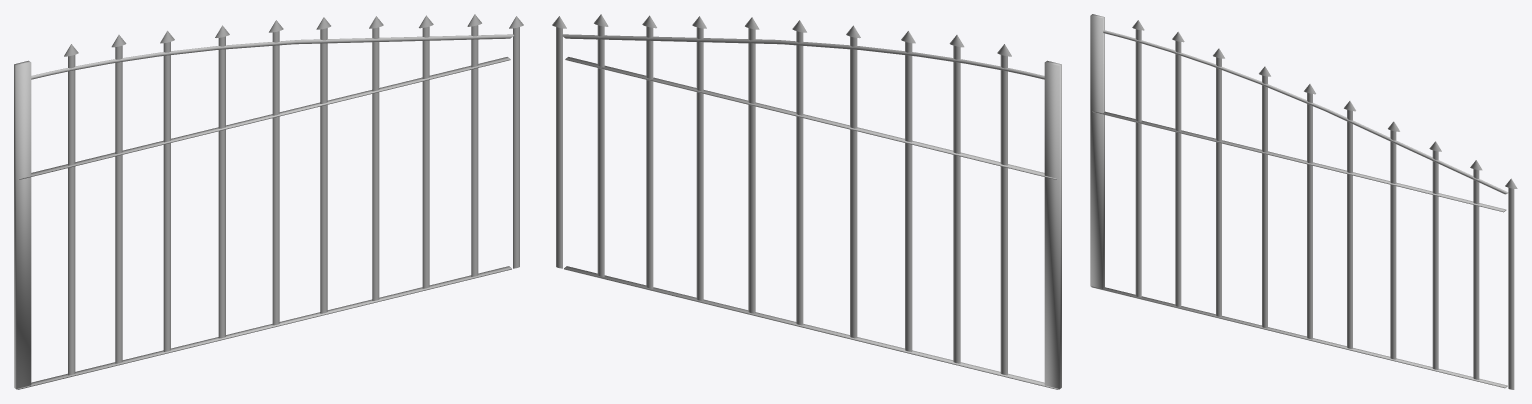
The model's file is puertaIzquierda.obj.
3 views of the same model, side by side, from view 1: azimuth 30°, elevation 25°; view 2: azimuth 150°, elevation 25°; view 3: azimuth 330°, elevation 25° (orthographic). The views are drawn at different scales.
Parts seen in each view (by area): view 1: door_2_Cubo_2, door_2_Cilindro, door_2_Cilindro_132, door_2_Cilindro_133, door_2_Cilindro_11, door_2_Cilindro_91, door_2_Cilindro_7, door_2_Sweep_NURBS, door_2_Cubo9, door_2_Cubo_18, door_2_Cilindro_5, door_2_Cilindro_2 (+2 smaller); view 2: door_2_Cubo_2, door_2_Cilindro, door_2_Cilindro_132, door_2_Cilindro_133, door_2_Cilindro_11, door_2_Cilindro_91, door_2_Cilindro_7, door_2_Sweep_NURBS, door_2_Cubo9, door_2_Cubo_18, door_2_Cilindro_5, door_2_Cilindro_2 (+2 smaller); view 3: door_2_Cubo_2, door_2_Cilindro, door_2_Cilindro_132, door_2_Sweep_NURBS, door_2_Cubo9, door_2_Cubo_18, door_2_Cilindro_5, door_2_Cilindro_133, door_2_Cilindro_2, door_2_Cilindro_11, door_2_Cilindro_91, door_2_Cilindro1 (+2 smaller).
Boxes of the visible parts, x1,y1,x2,y2 form: door_2_Cubo_2: [14, 60, 31, 389]; door_2_Cilindro: [68, 55, 75, 375]; door_2_Cilindro_132: [115, 45, 122, 363]; door_2_Cilindro_133: [163, 42, 170, 351]; door_2_Cilindro_11: [218, 36, 225, 338]; door_2_Cilindro_91: [272, 31, 279, 325]; door_2_Cilindro_7: [320, 28, 327, 313]; door_2_Sweep_NURBS: [31, 34, 513, 79]; door_2_Cubo9: [17, 266, 511, 389]; door_2_Cubo_18: [19, 57, 510, 179]; door_2_Cilindro_5: [372, 27, 379, 300]; door_2_Cilindro_2: [422, 26, 429, 288]; door_2_Cubo_2: [1044, 60, 1061, 389]; door_2_Cilindro: [1000, 55, 1007, 375]; door_2_Cilindro_132: [953, 45, 960, 363]; door_2_Cilindro_133: [905, 42, 912, 351]; door_2_Cilindro_11: [850, 36, 857, 338]; door_2_Cilindro_91: [796, 31, 803, 325]; door_2_Cilindro_7: [748, 28, 755, 313]; door_2_Sweep_NURBS: [562, 34, 1044, 79]; door_2_Cubo9: [564, 266, 1058, 389]; door_2_Cubo_18: [565, 57, 1056, 179]; door_2_Cilindro_5: [696, 27, 703, 300]; door_2_Cilindro_2: [646, 26, 653, 288]; door_2_Cubo_2: [1090, 14, 1104, 288]; door_2_Cilindro: [1135, 29, 1141, 297]; door_2_Cilindro_132: [1175, 41, 1181, 307]; door_2_Sweep_NURBS: [1103, 30, 1508, 194]; door_2_Cubo9: [1091, 286, 1507, 388]; door_2_Cubo_18: [1092, 111, 1506, 212]; door_2_Cilindro_5: [1390, 130, 1396, 359]; door_2_Cilindro_133: [1216, 57, 1221, 316]; door_2_Cilindro_2: [1432, 150, 1438, 369]; door_2_Cilindro_11: [1262, 75, 1267, 328]; door_2_Cilindro_91: [1307, 93, 1312, 339]; door_2_Cilindro1: [1473, 169, 1479, 379].
Bounding box in the file's own units: 8.86 × 5.53 × 0.0933.
Materials: 1 (1 with a texture image).
